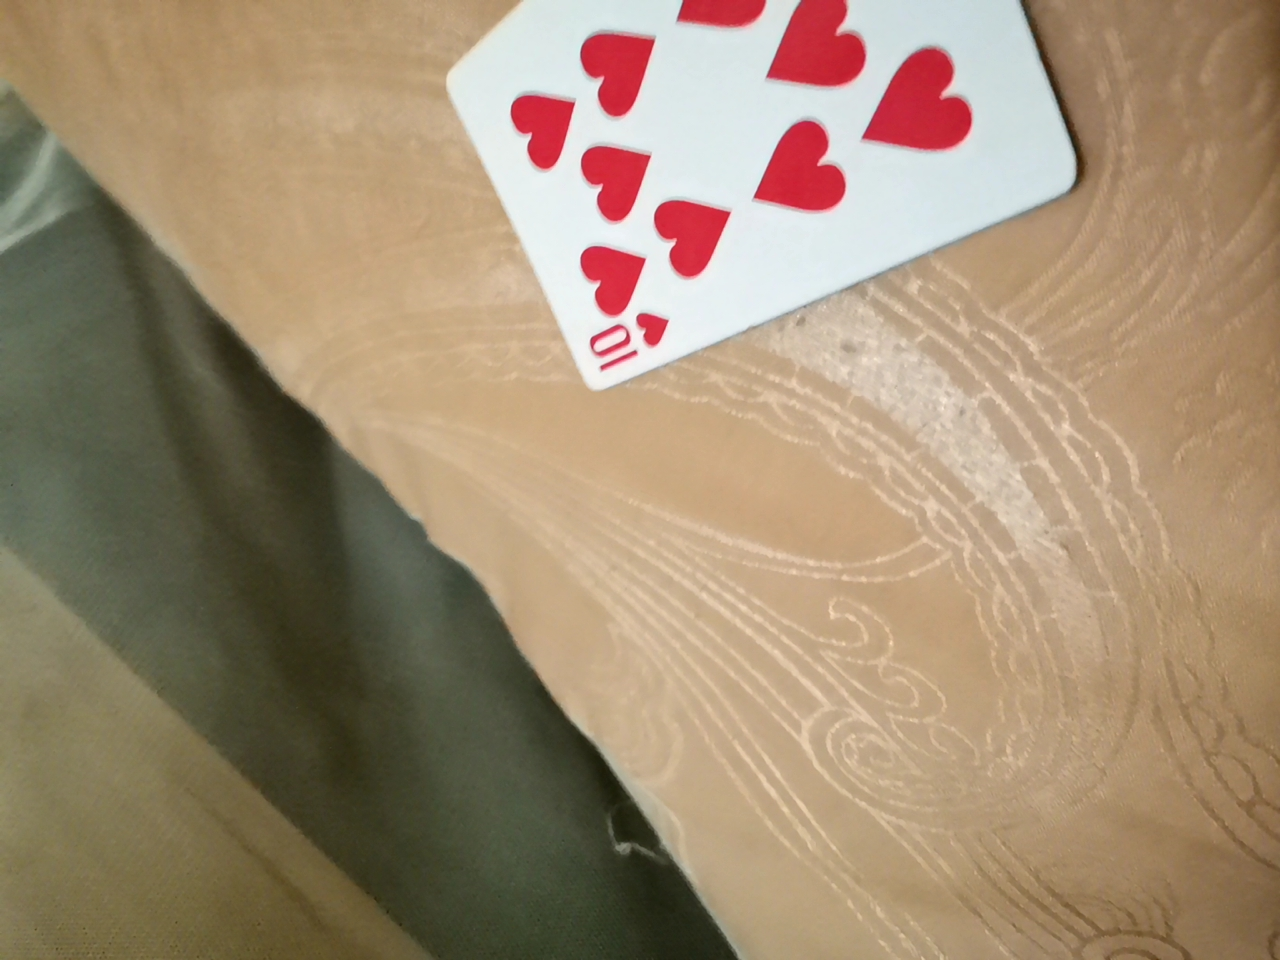hx 10: (462, 0, 1087, 406)
